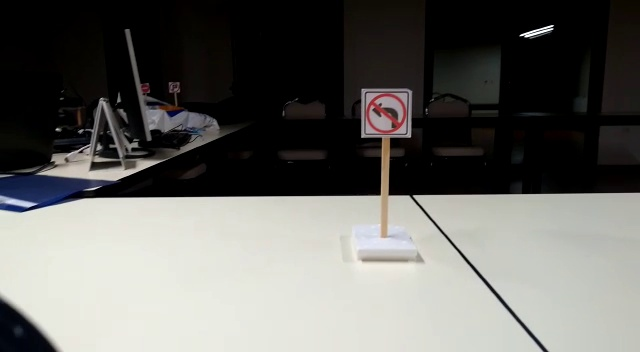sola_donulmez: (364, 96, 412, 135)
